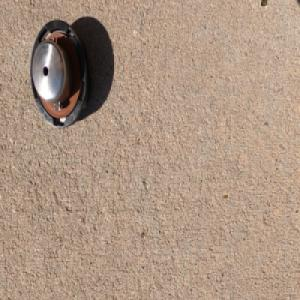FuelCap: (28, 16, 91, 131)
